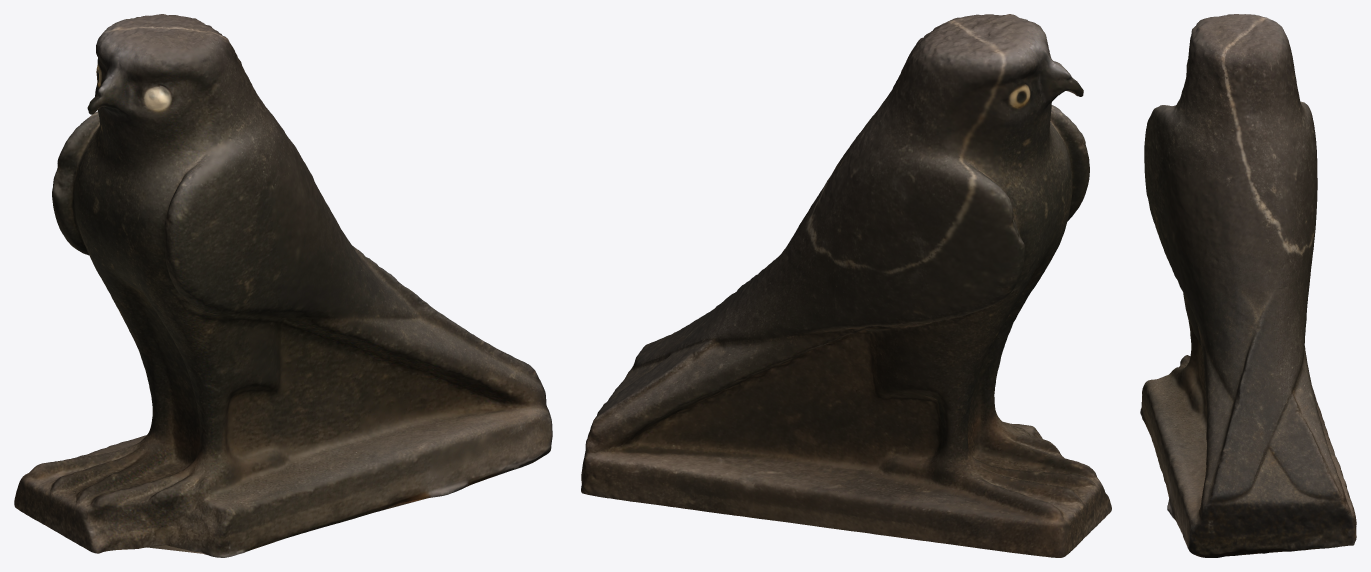
File: horus.glb
3 renders of one model, left to right at view 1: azimuth 30°, elevation 25°; view 2: azimuth 150°, elevation 25°; view 3: azimuth 270°, elevation 25°, orthographic. The views are drawn at different scales.
Visible parts, largest first — view 1: Object_2, Object_3; view 2: Object_2, Object_3; view 3: Object_2, Object_3.
Part boxes in pixels (x1,y1,x2,y2): Object_2: [14, 14, 552, 557]; Object_3: [102, 14, 552, 557]; Object_2: [581, 14, 1111, 557]; Object_3: [581, 14, 1082, 546]; Object_2: [1140, 14, 1356, 556]; Object_3: [1141, 18, 1356, 557].
Size of the model in its own units: 7.18 by 7.15 by 3.56.
Materials: 1 (1 with a texture image).
